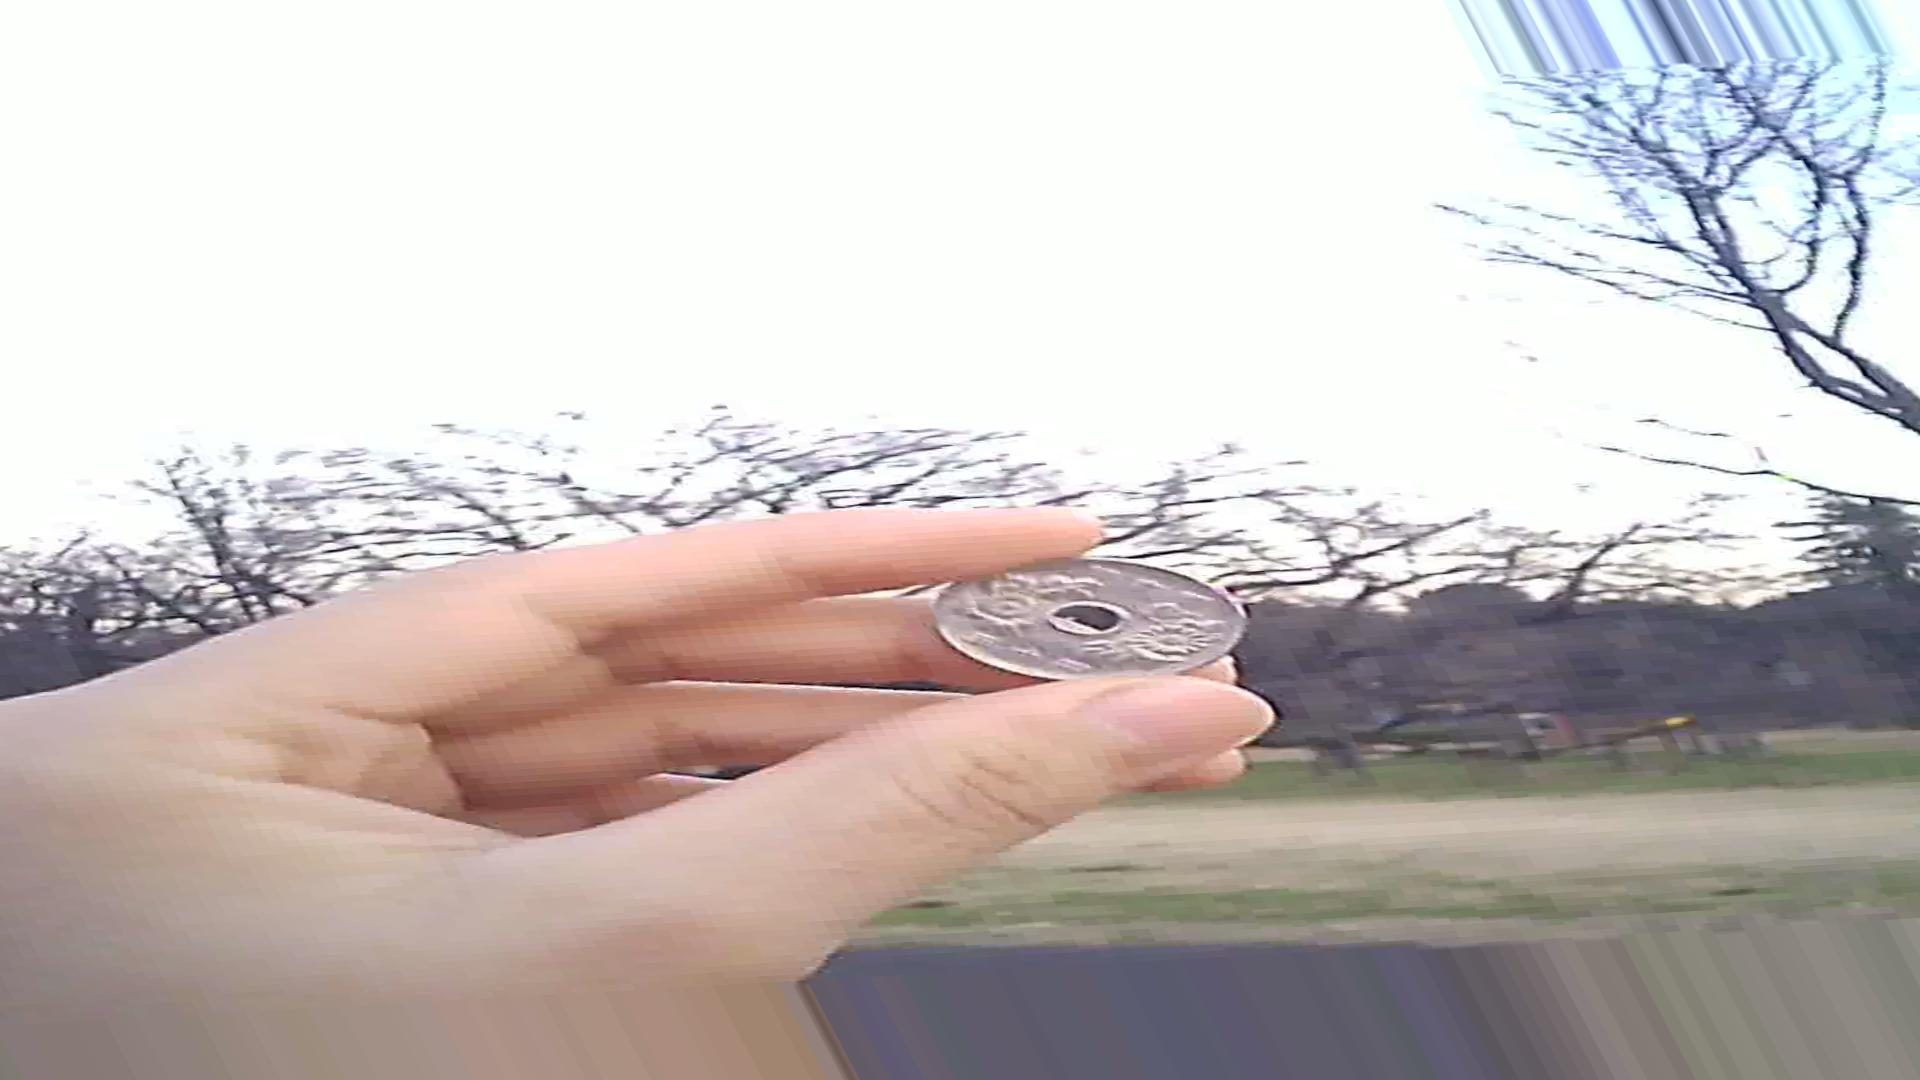50 Yen: (918, 527, 1261, 702)
